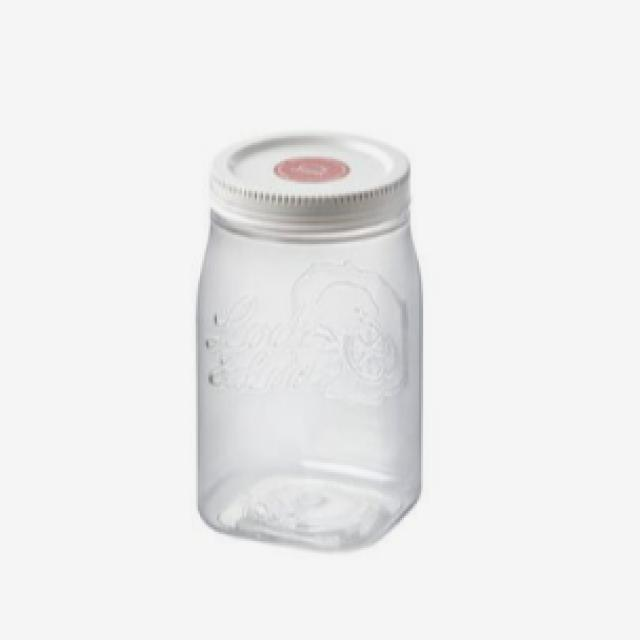ToplesKaca: (192, 129, 425, 550)
